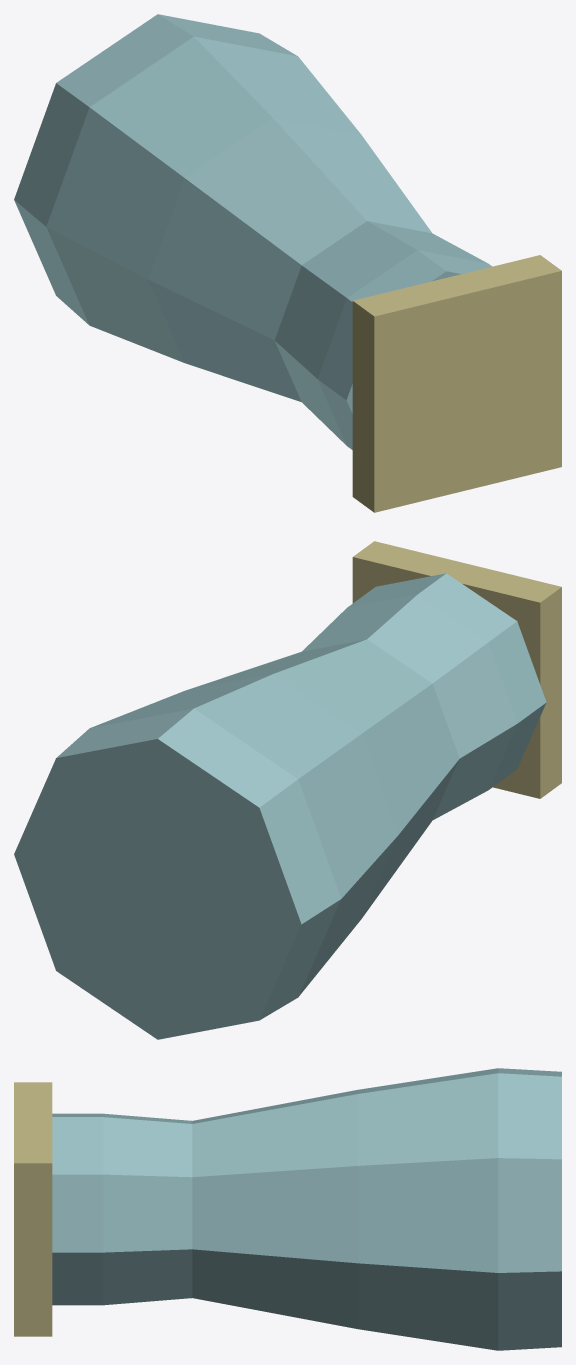
3 views of the same model, one above another, from view 1: azimuth 30°, elevation 25°; view 2: azimuth 150°, elevation 25°; view 3: azimuth 270°, elevation 25° (orthographic). The views are drawn at different scales.
Visible parts, largest first — view 1: part0, part1; view 2: part0, part1; view 3: part0, part1.
Boxes of the visible parts, <box> form: part0: <box>14,14,491,449</box>; part1: <box>352,255,561,512</box>; part0: <box>14,573,546,1039</box>; part1: <box>352,541,561,798</box>; part0: <box>52,1068,561,1350</box>; part1: <box>14,1082,52,1336</box>.
Size of the model in its own units: 2.36 by 2.36 by 4.3.
